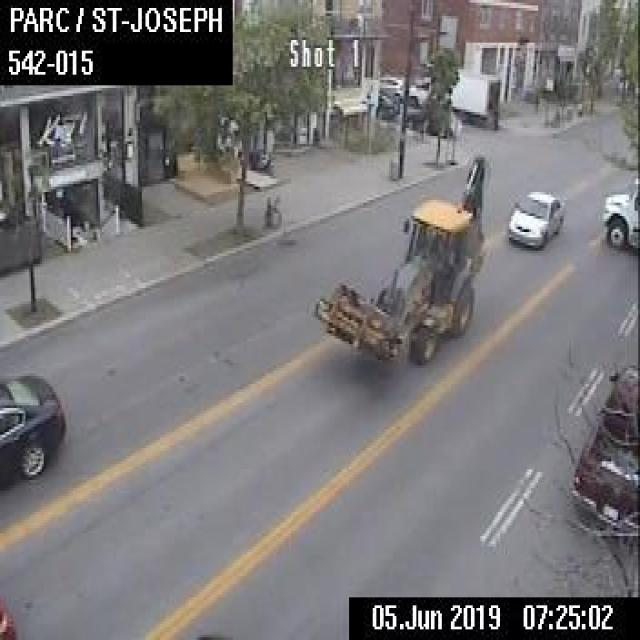vehicle: (311, 152, 485, 368), (566, 363, 638, 544), (0, 368, 65, 488), (406, 60, 498, 124), (504, 181, 564, 251), (596, 181, 638, 251), (376, 90, 397, 122), (378, 74, 401, 98)
